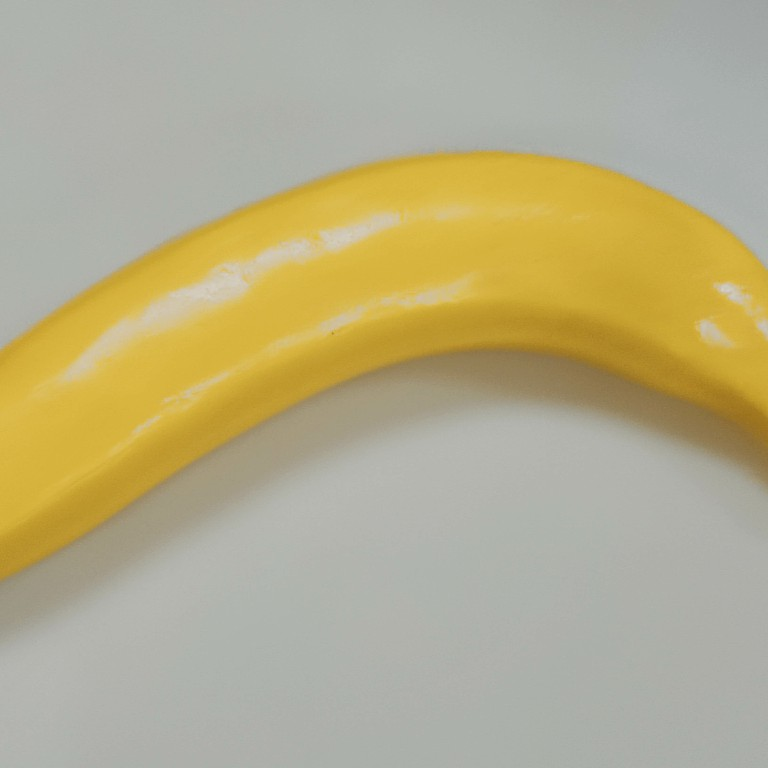fruit_banana: (1, 143, 768, 588)
